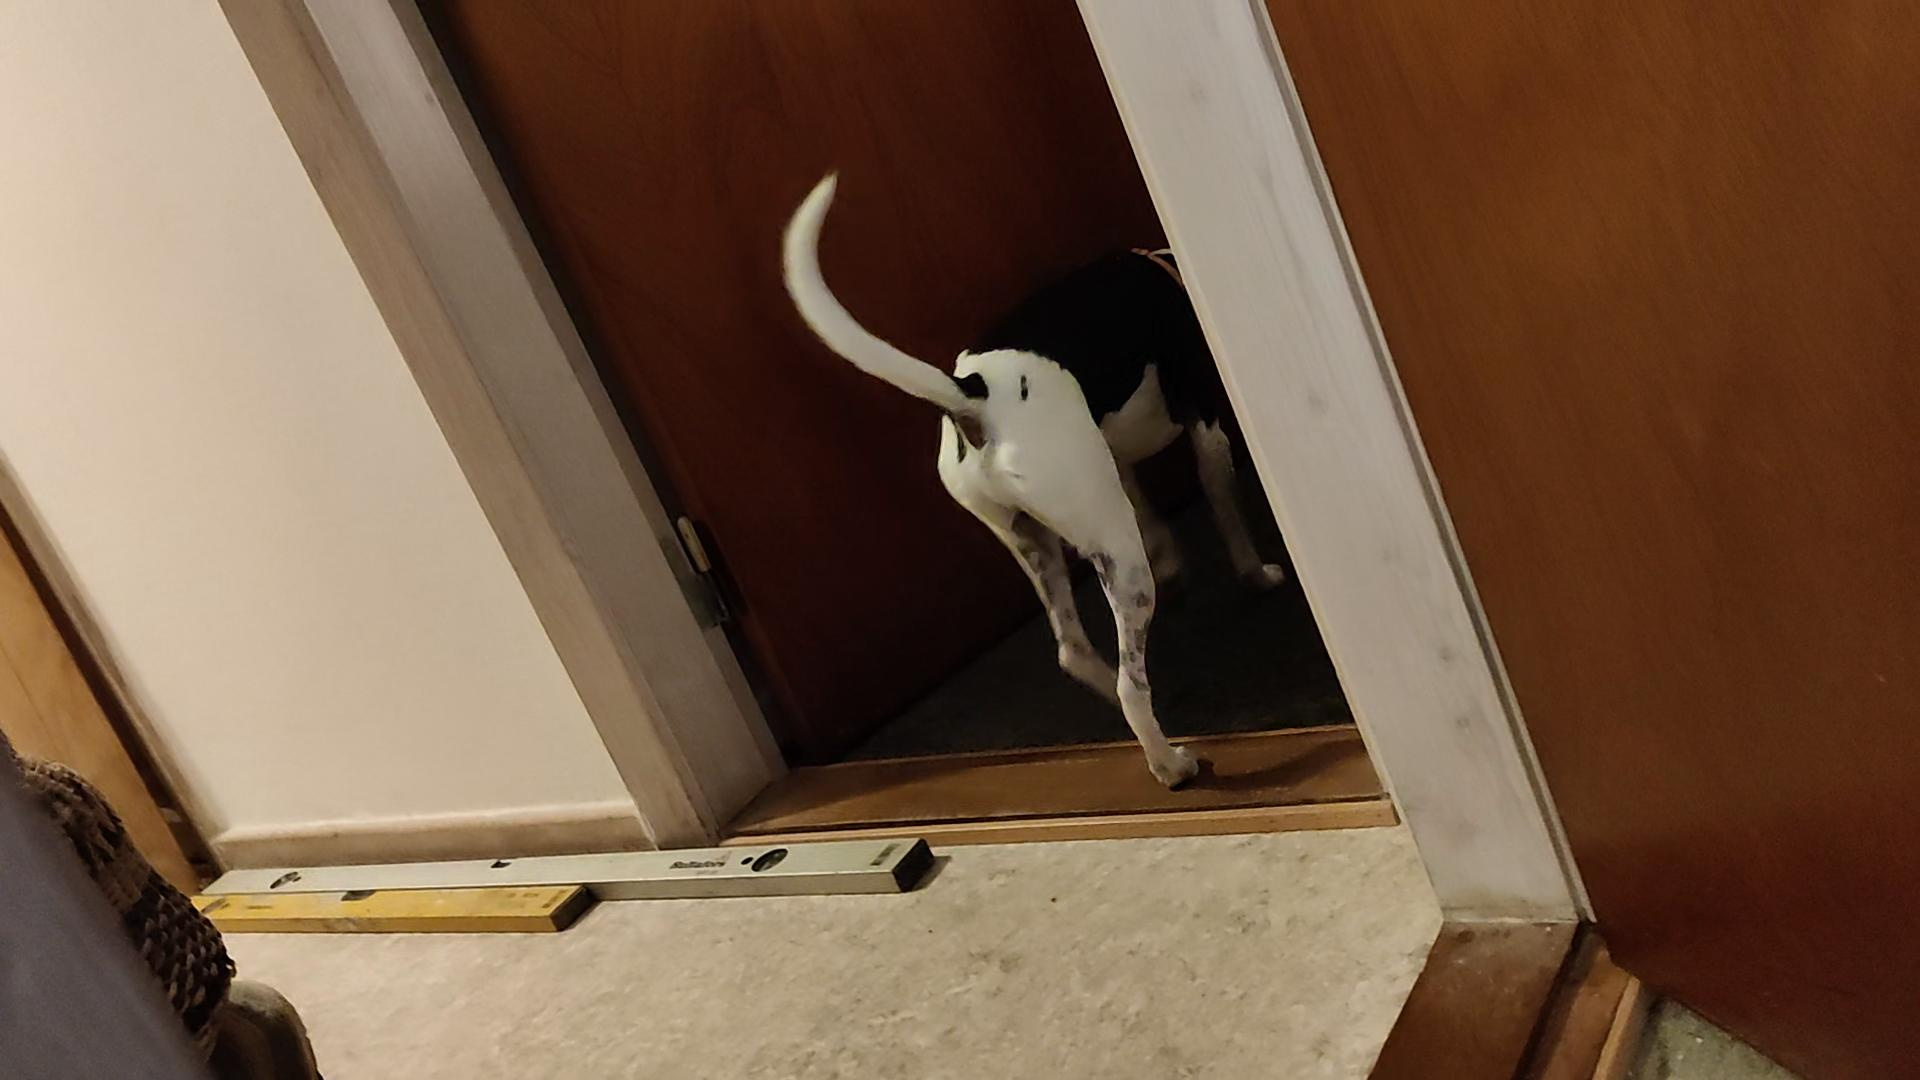Dog: (767, 164, 1288, 796)
